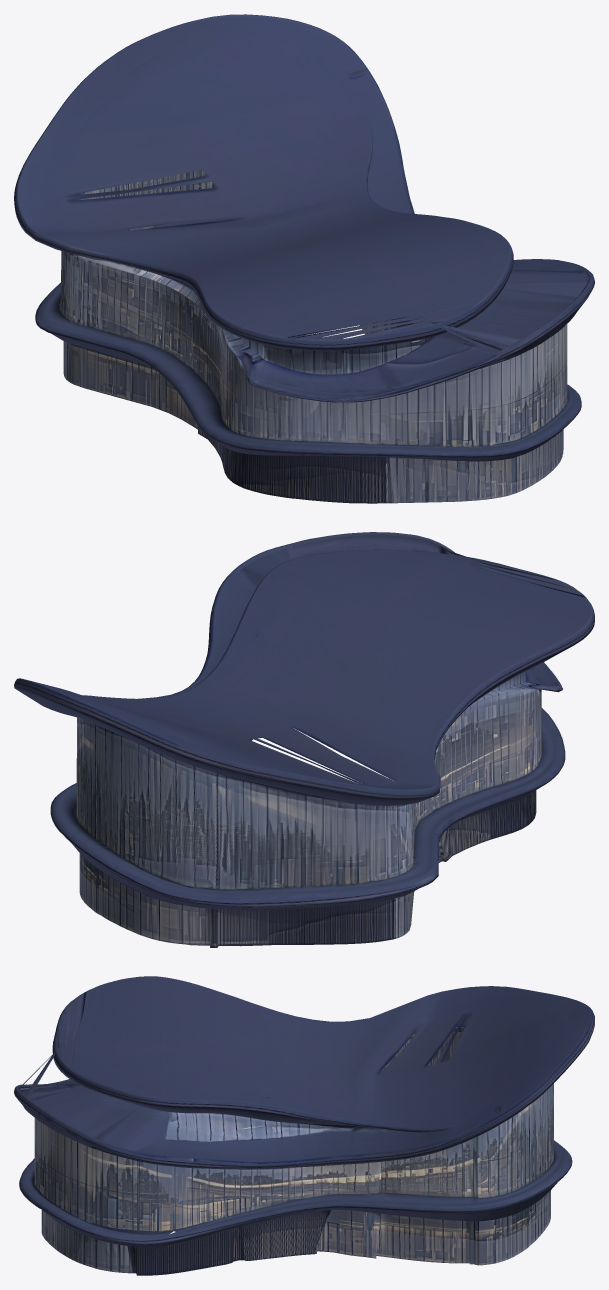
Rendered from town-glass-house.glb.
The picture shows the model from 3 angles, top to bottom: view 1: azimuth 30°, elevation 25°; view 2: azimuth 150°, elevation 25°; view 3: azimuth 270°, elevation 25°; orthographic projection. The views are drawn at different scales.
Parts seen in each view (by area): view 1: tripo_node_47049549-0c1e-4d3f-a35a-189ddc82bbfa; view 2: tripo_node_47049549-0c1e-4d3f-a35a-189ddc82bbfa; view 3: tripo_node_47049549-0c1e-4d3f-a35a-189ddc82bbfa.
Boxes of the visible parts, x1,y1,x2,y2 form: tripo_node_47049549-0c1e-4d3f-a35a-189ddc82bbfa: (14,14,594,503); tripo_node_47049549-0c1e-4d3f-a35a-189ddc82bbfa: (14,532,594,947); tripo_node_47049549-0c1e-4d3f-a35a-189ddc82bbfa: (14,976,594,1275).
Size of the model in its own units: 0.6509 by 0.397 by 0.9995.
1 material, 1 textured.
